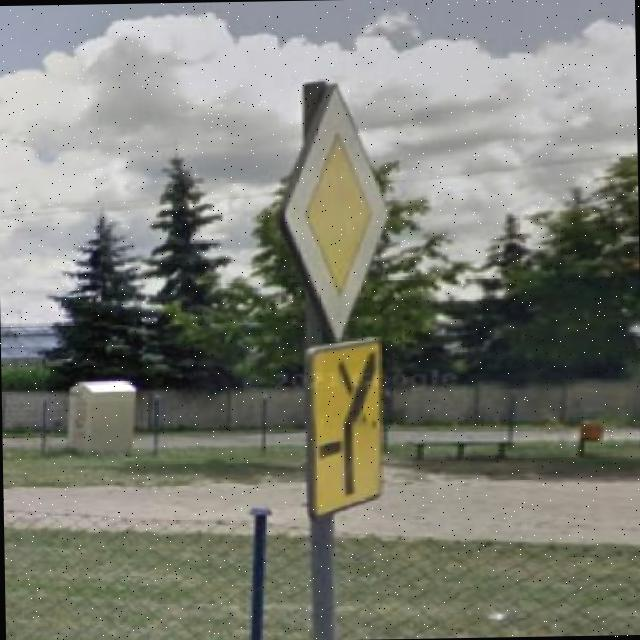Droga z pierwszenstwem: (276, 80, 394, 340)
